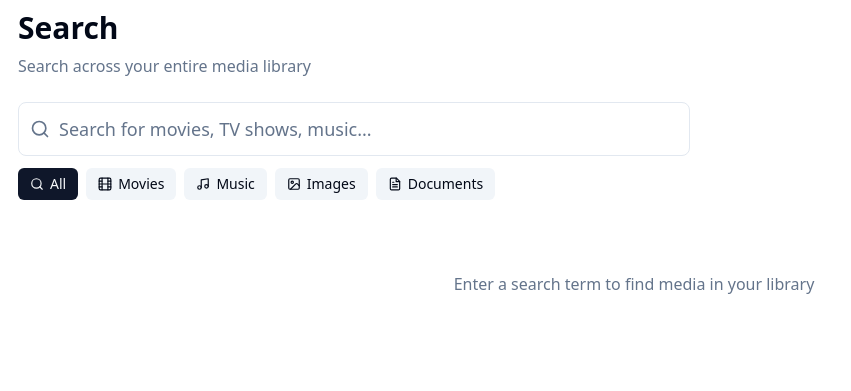
Test: SearchPage › displays multiple results with correct count
In the field with placeholder "Search for movies, TV shows, music...": (354, 129) [18, 102, 690, 156], type "Movie"
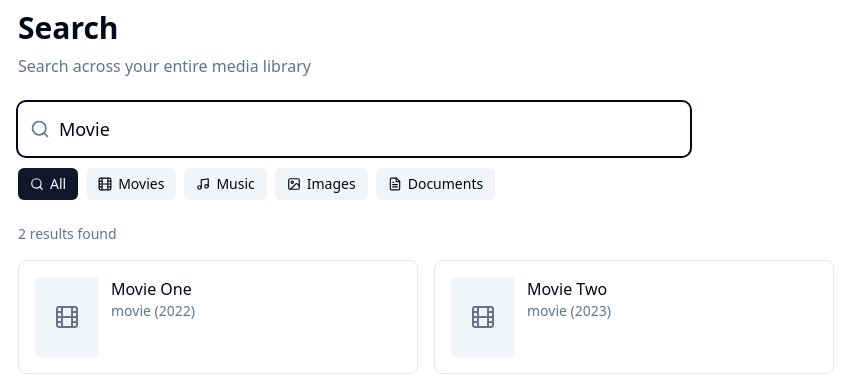
Expected: the text "2 results found" is shown, [18, 224, 117, 243]
Expected: the heading "Movie One" is shown, [111, 278, 192, 300]
Expected: the heading "Movie Two" is shown, [527, 278, 607, 300]
